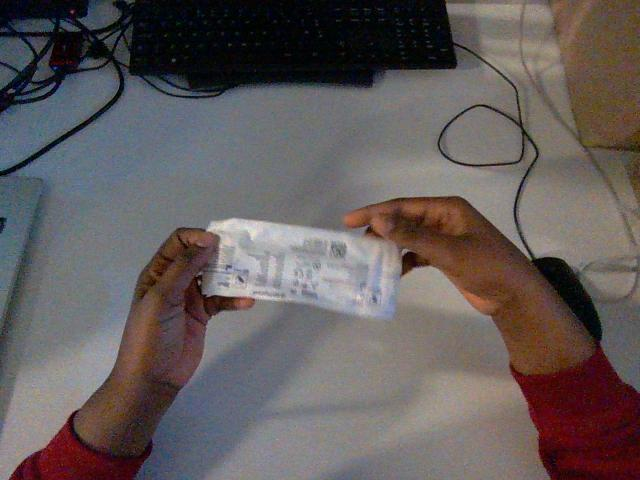syringe: (201, 219, 400, 318)
